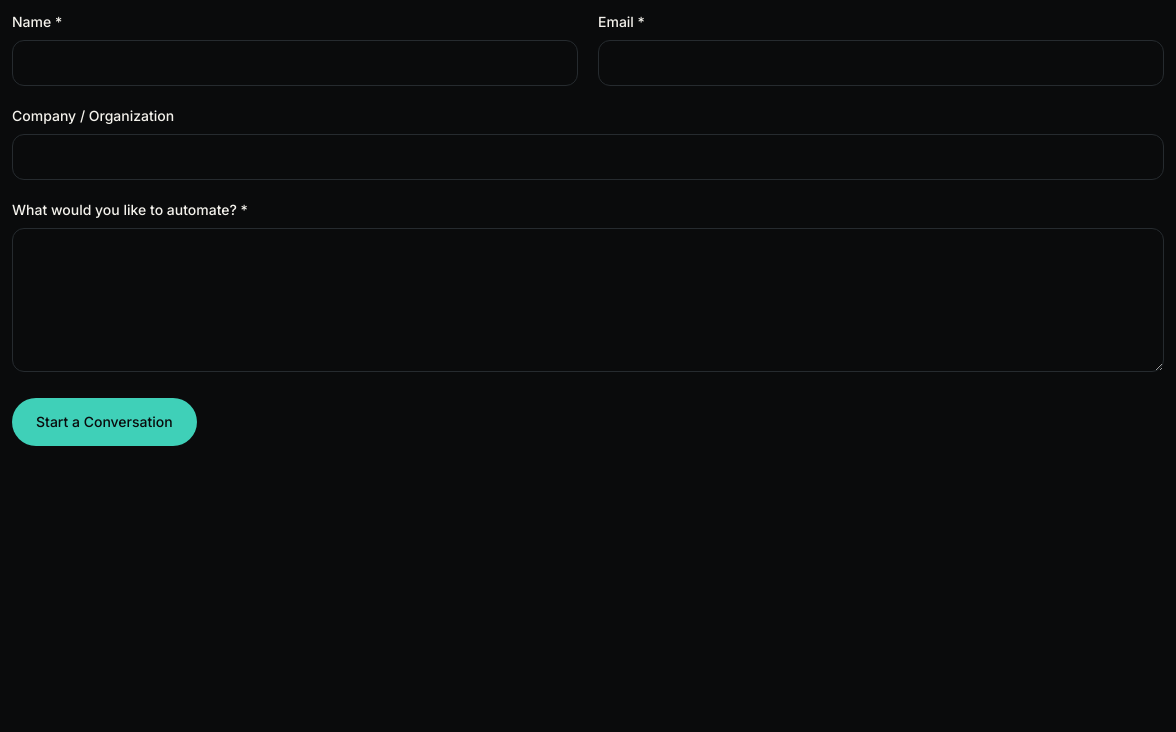
Scenario: ContactForm › shows required field errors when submitted empty
Click the button "Start a Conversation" at (104, 422), box [12,398,197,446]
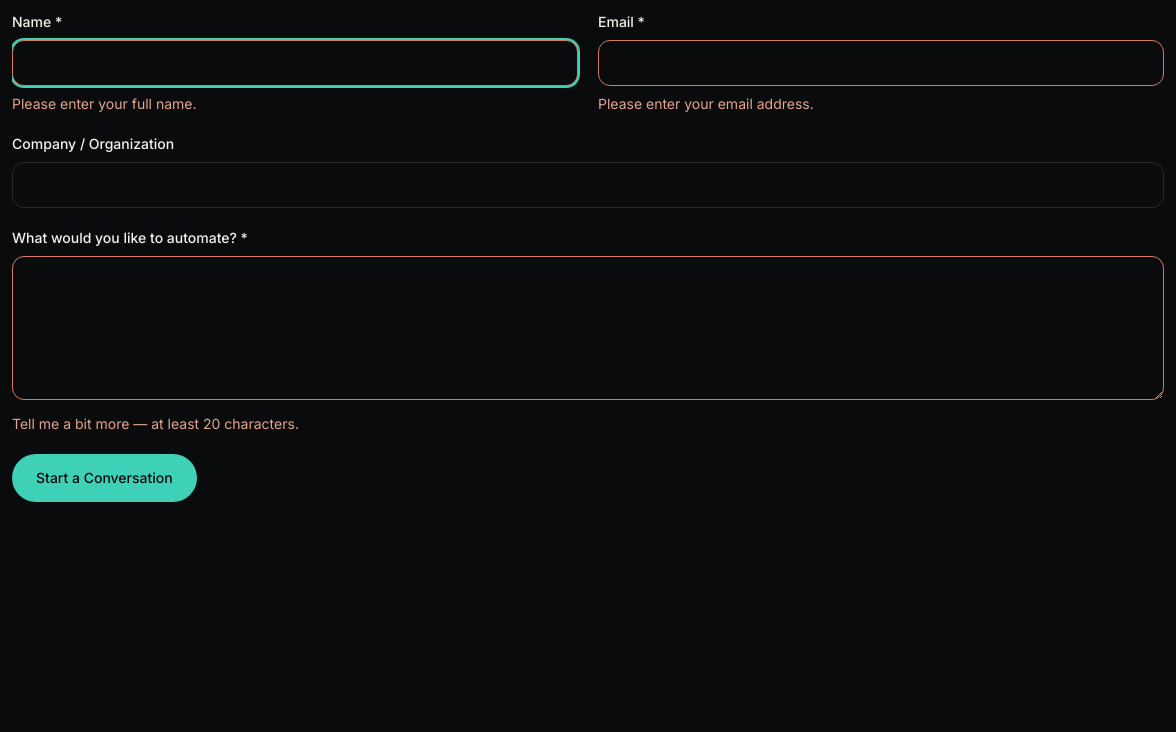
Check: the text "Please enter your full name." is shown, box [12,95,196,112]
Check: the text "Please enter your email address." is shown, box [598,95,814,112]
Check: the text "Tell me a bit more — at least 20 characters." is shown, box [12,415,299,432]
